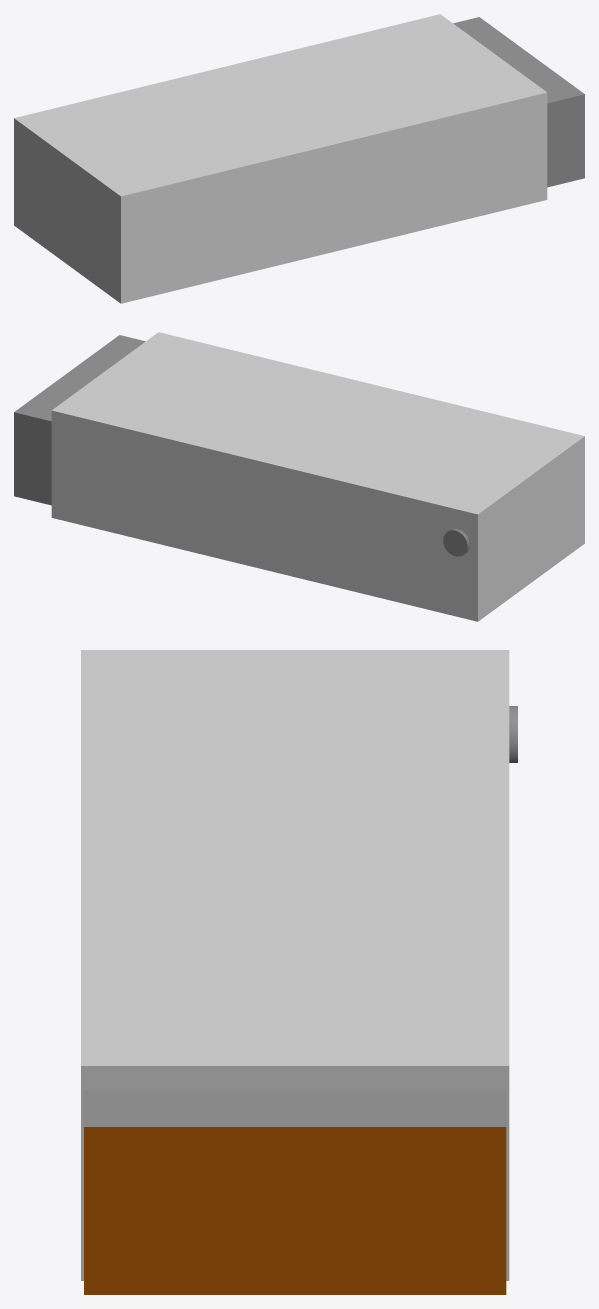
File: battery.dae
The picture shows the model from 3 angles, top to bottom: view 1: azimuth 30°, elevation 25°; view 2: azimuth 150°, elevation 25°; view 3: azimuth 270°, elevation 25°; orthographic projection. The views are drawn at different scales.
Visible parts, largest first — view 1: ID2; view 2: ID2; view 3: ID2.
Part boxes in pixels (bbox=[...]): ID2: bbox=[14, 14, 584, 303]; ID2: bbox=[14, 332, 584, 621]; ID2: bbox=[81, 650, 517, 1294].
Bounding box in the file's own units: 0.376 × 0.153 × 0.083.
